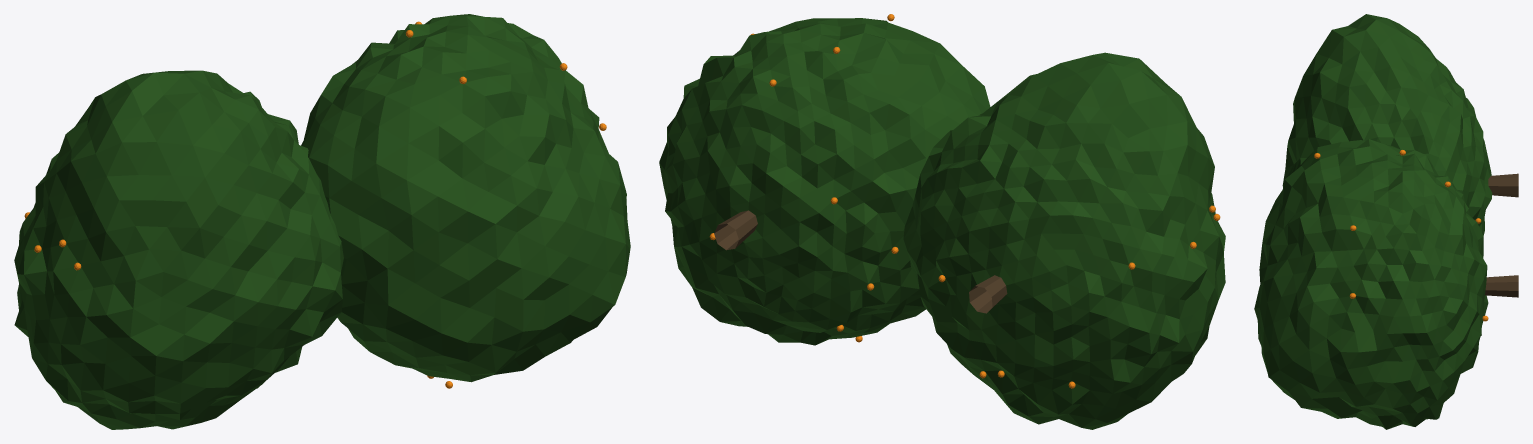
The model's file is citrus_run2_b_fruit.obj.
3 views of the same model, side by side, from view 1: azimuth 30°, elevation 25°; view 2: azimuth 150°, elevation 25°; view 3: azimuth 270°, elevation 25° (orthographic). The views are drawn at different scales.
Visible parts, largest first — view 1: canopy; view 2: canopy, trunk, fruit; view 3: canopy, trunk.
Boxes of the visible parts, box(x1,y1,x2,y2) form: canopy: box(14, 14, 630, 429); canopy: box(659, 18, 1225, 429); trunk: box(714, 210, 1007, 313); fruit: box(709, 14, 1220, 388); canopy: box(1254, 14, 1492, 429); trunk: box(1485, 173, 1518, 297).
Bounding box in the file's own units: 6.31 × 3.93 × 3.3.
